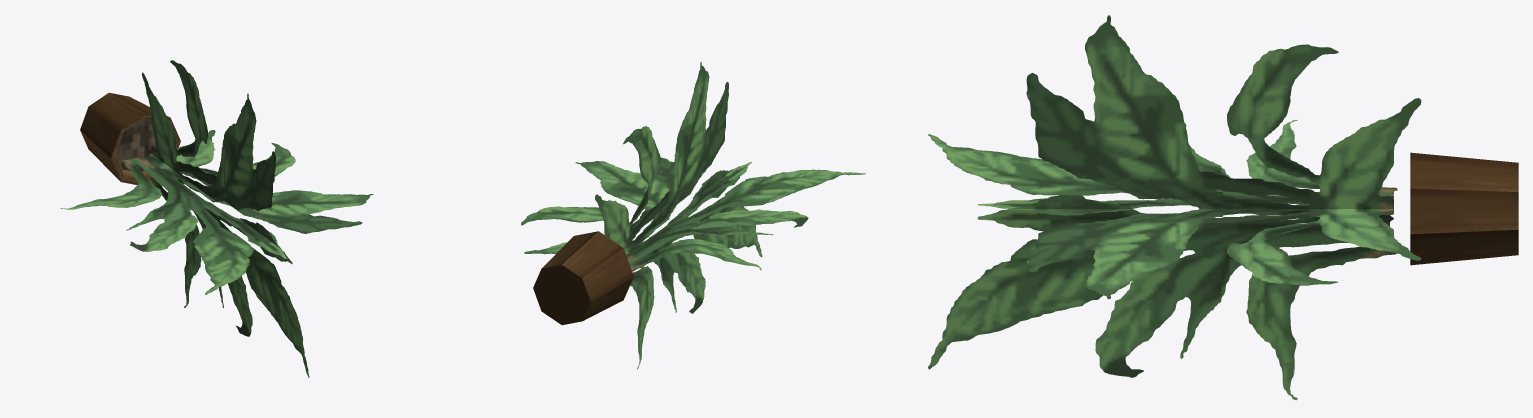
File: pz_plant_native_11.obj
3 views of the same model, side by side, from view 1: azimuth 30°, elevation 25°; view 2: azimuth 150°, elevation 25°; view 3: azimuth 270°, elevation 25° (orthographic). The views are drawn at different scales.
Parts seen in each view (by area): view 1: foliage_PNG_crossed_cards, pot_soil_and_rim; view 2: foliage_PNG_crossed_cards, pot_soil_and_rim; view 3: foliage_PNG_crossed_cards, pot_soil_and_rim.
Part boxes in pixels (bbox=[...]): foliage_PNG_crossed_cards: bbox=[60, 60, 373, 377]; pot_soil_and_rim: bbox=[80, 92, 180, 184]; foliage_PNG_crossed_cards: bbox=[521, 62, 865, 369]; pot_soil_and_rim: bbox=[533, 231, 633, 325]; foliage_PNG_crossed_cards: bbox=[928, 15, 1421, 400]; pot_soil_and_rim: bbox=[1410, 152, 1518, 265].
Bounding box in the file's own units: 0.7535 × 0.7535 × 1.05.
